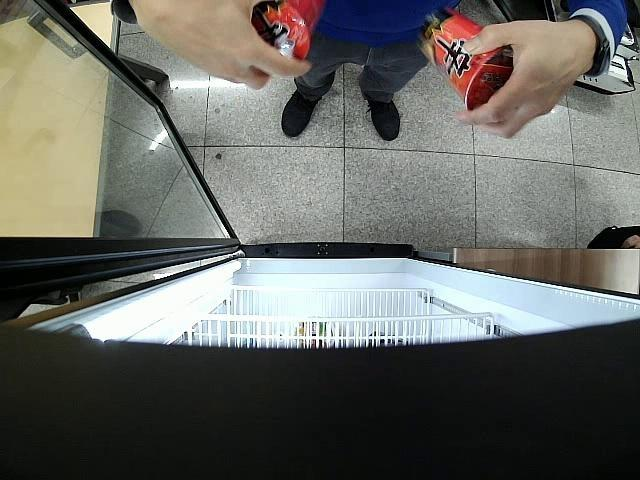02_shinRamen_S: (417, 4, 512, 110), (250, 0, 326, 59)
